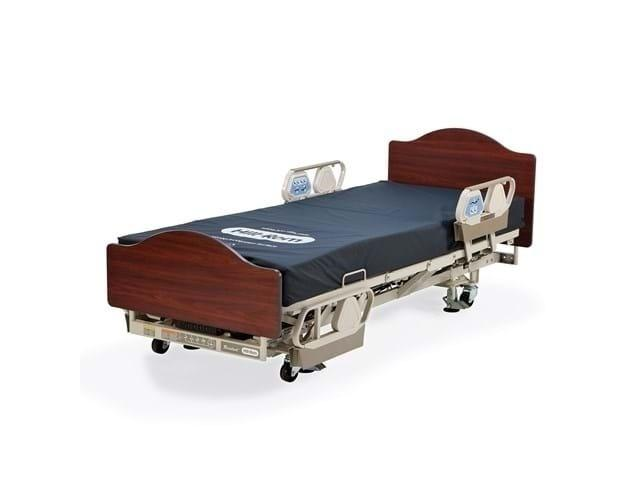bed: (105, 120, 555, 379)
